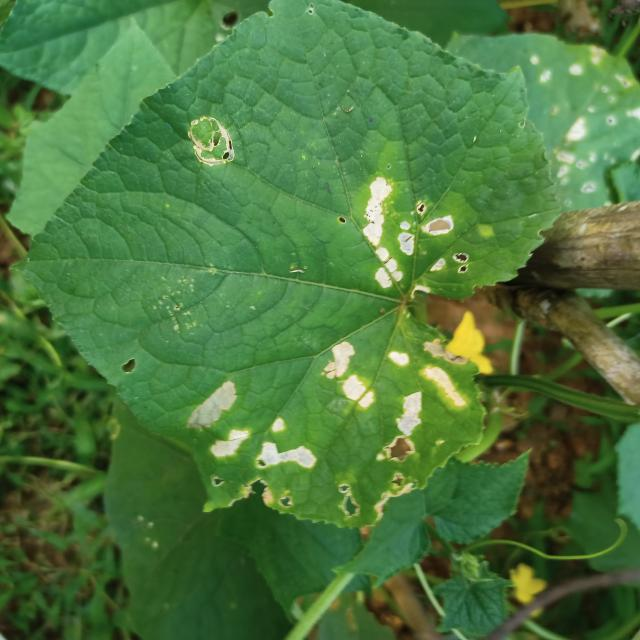disease_cucumber: (348, 172, 474, 308), (382, 330, 472, 479), (183, 378, 253, 478), (321, 336, 380, 414), (257, 413, 323, 479)
